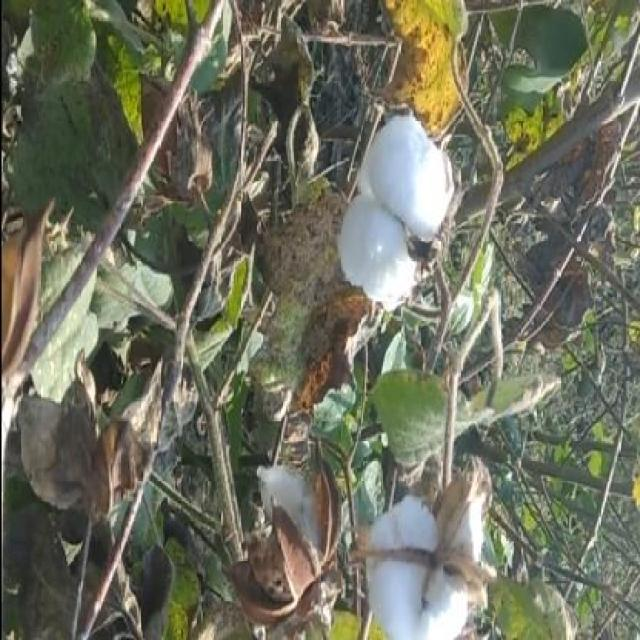cotton_ready: (342, 83, 453, 354), (355, 435, 500, 639)
